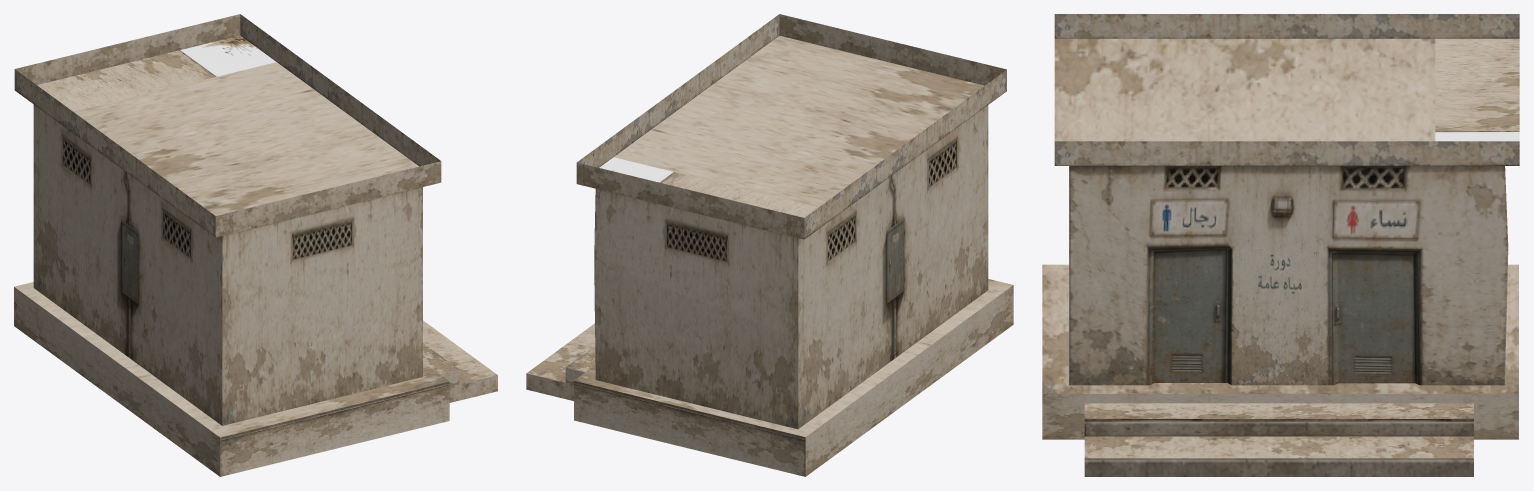
Rendered from PublicToilet.fbx.
The picture shows the model from 3 angles, left to right: view 1: azimuth 30°, elevation 25°; view 2: azimuth 150°, elevation 25°; view 3: azimuth 270°, elevation 25°; orthographic projection. The views are drawn at different scales.
Parts seen in each view (by area): view 1: Cube.002, Cube.001, Cube; view 2: Cube.002, Cube.001, Cube; view 3: Cube.002, Cube, Cube.001.
Part boxes in pixels (bbox=[...]): Cube.002: bbox=[14, 14, 441, 425]; Cube.001: bbox=[14, 282, 449, 476]; Cube: bbox=[423, 320, 497, 402]; Cube.002: bbox=[576, 14, 1006, 429]; Cube.001: bbox=[574, 279, 1013, 476]; Cube: bbox=[526, 323, 595, 400]; Cube.002: bbox=[1054, 14, 1519, 385]; Cube: bbox=[1084, 403, 1473, 476]; Cube.001: bbox=[1042, 264, 1518, 439].
Size of the model in its own units: 429 by 356 by 518.
1 material, 1 textured.
